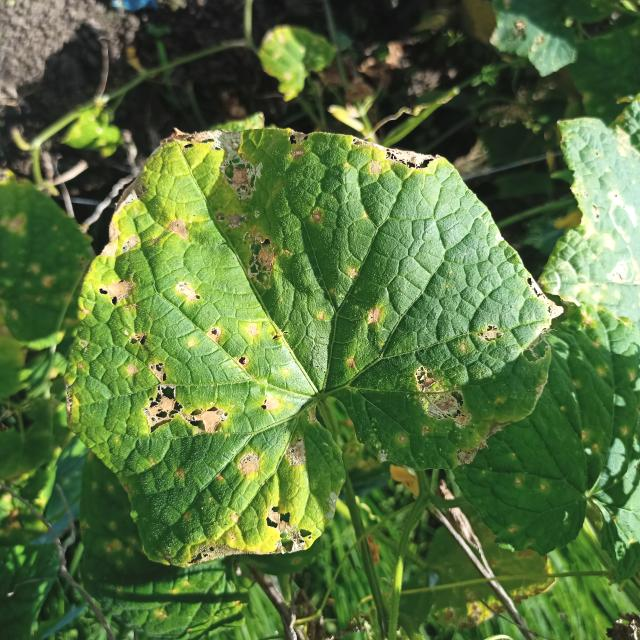disease_cucumber: (70, 128, 516, 566)
